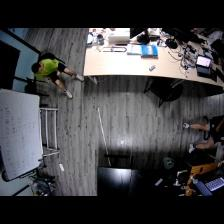normal: (31, 58, 83, 99), (178, 113, 224, 155)
